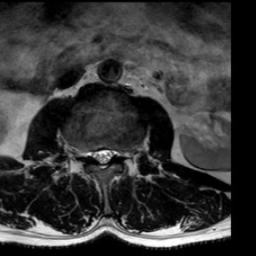CCS_normal: (99, 139, 106, 175)
LFS_stenosis: (115, 138, 124, 165)
LLS_stenosis: (106, 139, 115, 166)
RFS_stenosis: (81, 138, 91, 166)
RLS_stenosis: (91, 139, 99, 168)
